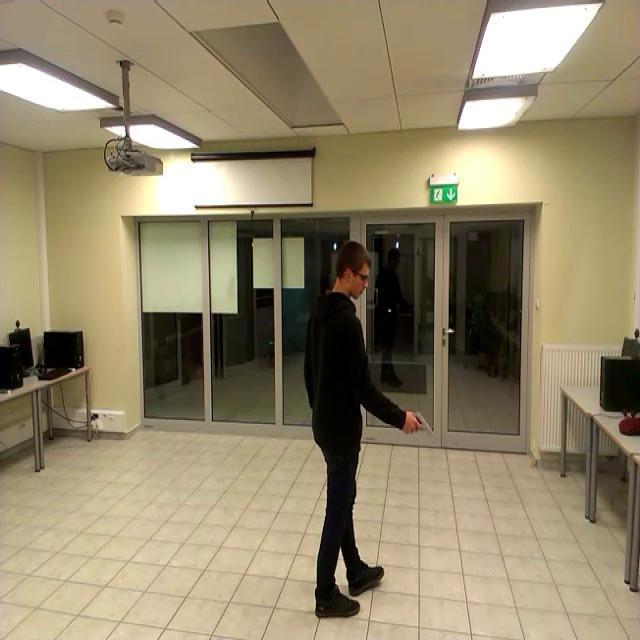Gun: (395, 402, 449, 451)
